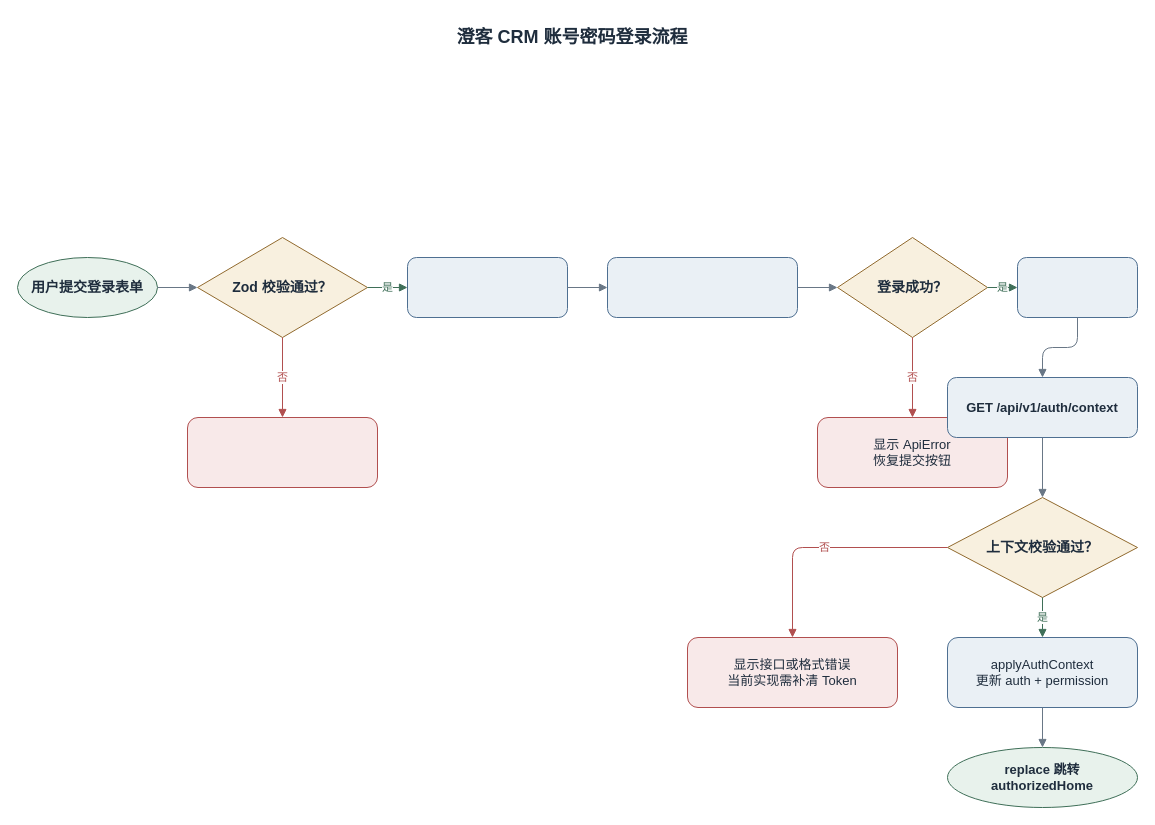
Some shapes in this 1155 by 825 pixel diagram are drawn without their labels. Here are the shapes that lost their labels. From the top down, the centre of each, then its label:
At (x=487, y=287): "锁定提交按钮 清除旧错误".
At (x=702, y=287): "POST /api/v1/auth/login".
At (x=1077, y=287): "Access Token 写入内存".
At (x=282, y=452): "显示字段错误 保留当前输入".
